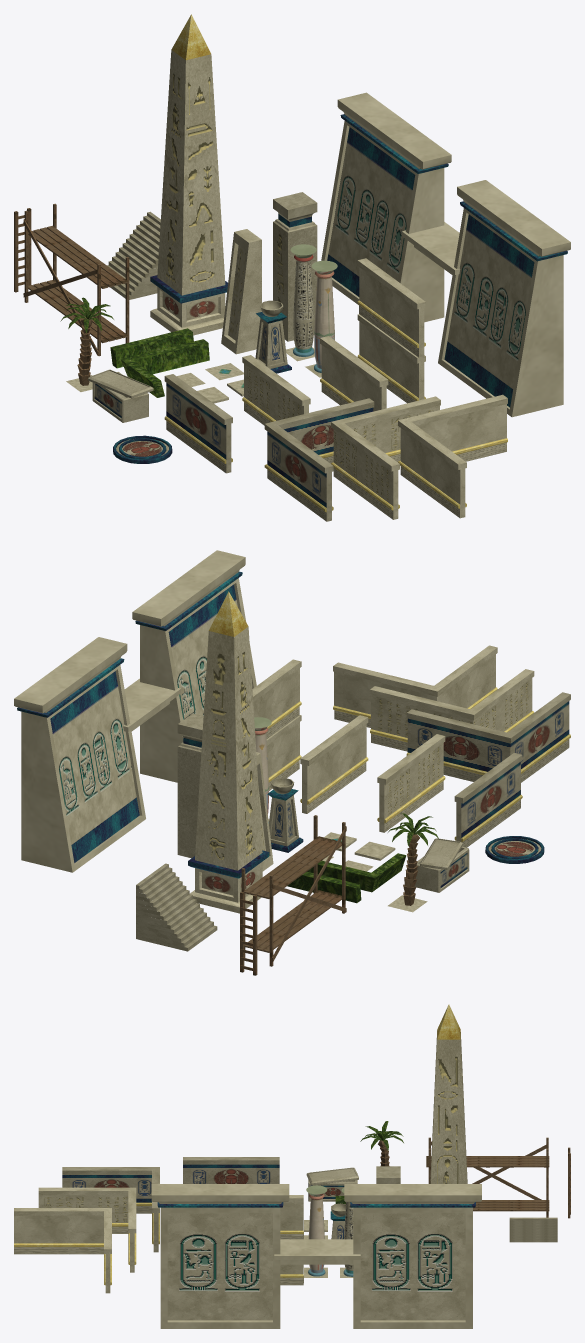
Rendered from egyptian_tomb_asset_pack.glb.
3 renders of one model, top to bottom at view 1: azimuth 30°, elevation 25°; view 2: azimuth 150°, elevation 25°; view 3: azimuth 270°, elevation 25°, orthographic. The views are drawn at different scales.
Parts seen in each view (by area): view 1: Gate_mesh, Obelisk_mesh, Wall_corner_mesh_basic, Outer_wall_mesh, Wall_corner_mesh_heiroglyphics, Wall_corner_mesh_decorative1, Scaffold_mesh, corner_pillar, Wall_mesh_decorative, Extrior_pillar_mesh, Wall_mesh_basic, Wall_mesh_heiroglyphics (+10 smaller); view 2: Gate_mesh, Obelisk_mesh, Wall_corner_mesh_decorative1, Wall_corner_mesh_heiroglyphics, Scaffold_mesh, Wall_corner_mesh_basic, Stairs_mesh, Outer_wall_mesh, Wall_mesh_basic, Wall_mesh_heiroglyphics, Wall_mesh_decorative, corner_pillar (+9 smaller); view 3: Gate_mesh, Obelisk_mesh, Wall_corner_mesh_basic, Wall_corner_mesh_heiroglyphics, Wall_corner_mesh_decorative1, Scaffold_mesh, Wall_mesh_decorative, Outer_wall_mesh, Stairs_mesh, Pillar_mesh2, Sarcoffogus_mesh, Palm_tree_mesh (+3 smaller).
Boxes of the visible parts, x1=… form: Gate_mesh: x1=321, y1=92, x2=570, y2=417; Obelisk_mesh: x1=150, y1=14, x2=227, y2=335; Wall_corner_mesh_basic: x1=398, y1=394, x2=507, y2=518; Outer_wall_mesh: x1=357, y1=258, x2=425, y2=403; Wall_corner_mesh_heiroglyphics: x1=331, y1=396, x2=440, y2=519; Wall_corner_mesh_decorative1: x1=264, y1=398, x2=374, y2=521; Scaffold_mesh: x1=23, y1=203, x2=129, y2=356; corner_pillar: x1=273, y1=192, x2=317, y2=341; Wall_mesh_decorative: x1=164, y1=374, x2=232, y2=473; Extrior_pillar_mesh: x1=221, y1=229, x2=261, y2=354; Wall_mesh_basic: x1=320, y1=336, x2=388, y2=411; Wall_mesh_heiroglyphics: x1=242, y1=355, x2=310, y2=425; Gate_mesh: x1=14, y1=550, x2=256, y2=872; Obelisk_mesh: x1=188, y1=591, x2=269, y2=913; Wall_corner_mesh_decorative1: x1=406, y1=692, x2=570, y2=782; Wall_corner_mesh_heiroglyphics: x1=370, y1=669, x2=534, y2=751; Scaffold_mesh: x1=241, y1=815, x2=346, y2=966; Wall_corner_mesh_basic: x1=333, y1=645, x2=497, y2=727; Stairs_mesh: x1=136, y1=863, x2=217, y2=951; Outer_wall_mesh: x1=252, y1=659, x2=301, y2=790; Wall_mesh_basic: x1=300, y1=715, x2=368, y2=813; Wall_mesh_heiroglyphics: x1=377, y1=734, x2=445, y2=832; Wall_mesh_decorative: x1=454, y1=753, x2=522, y2=847; corner_pillar: x1=177, y1=713, x2=203, y2=858; Gate_mesh: x1=151, y1=1184, x2=481, y2=1328; Obelisk_mesh: x1=430, y1=1004, x2=467, y2=1183; Wall_corner_mesh_basic: x1=14, y1=1208, x2=111, y2=1293; Wall_corner_mesh_heiroglyphics: x1=38, y1=1187, x2=136, y2=1272; Wall_corner_mesh_decorative1: x1=62, y1=1167, x2=159, y2=1252; Scaffold_mesh: x1=426, y1=1137, x2=549, y2=1217; Wall_mesh_decorative: x1=183, y1=1157, x2=279, y2=1183; Outer_wall_mesh: x1=280, y1=1195, x2=303, y2=1285; Stairs_mesh: x1=509, y1=1217, x2=557, y2=1242; Pillar_mesh2: x1=304, y1=1185, x2=327, y2=1277; Sarcoffogus_mesh: x1=306, y1=1167, x2=358, y2=1201; Palm_tree_mesh: x1=360, y1=1121, x2=403, y2=1166.
Size of the model in its own units: 0.1514 by 0.114 by 0.2305.
9 materials, 9 textured.
